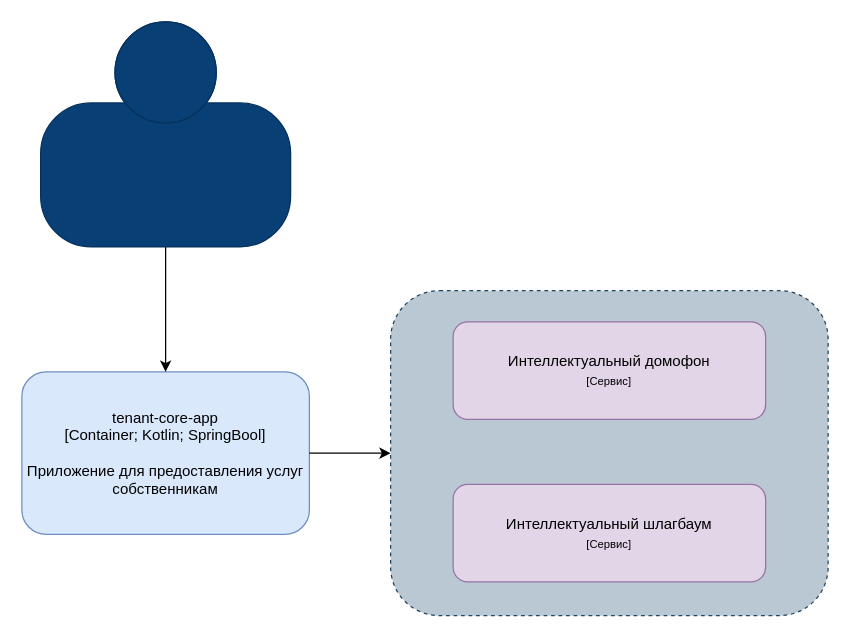
Image size: 850x638. Some labels were removed from this diagram. The shapes that lost their labels are listed below. From the top down, each one's box as (x1, y1, x2, y2) in pixels, then its label:
(39, 21, 291, 247): Собственник [Person] Клиент
(389, 289, 828, 616): Партнер: Платформа 'Умный дом' [Внешняя система]
